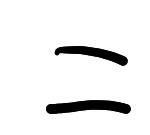eqv: (43, 43, 133, 116)
